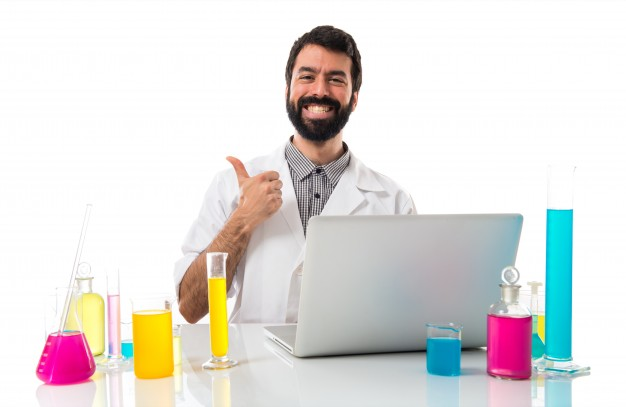thumbsup: (226, 156, 283, 208)
